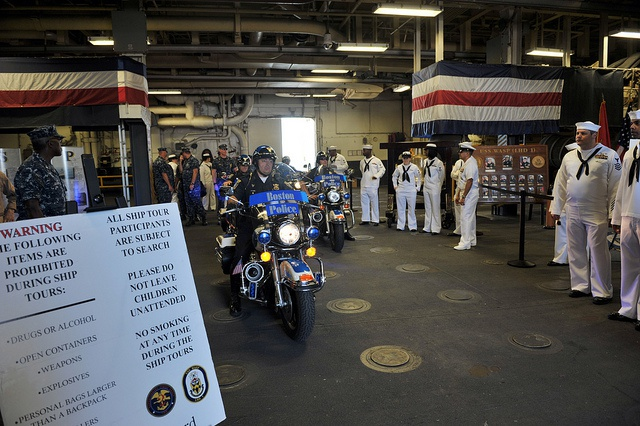non-vehicle: (213, 184, 325, 344), (297, 167, 354, 251)
